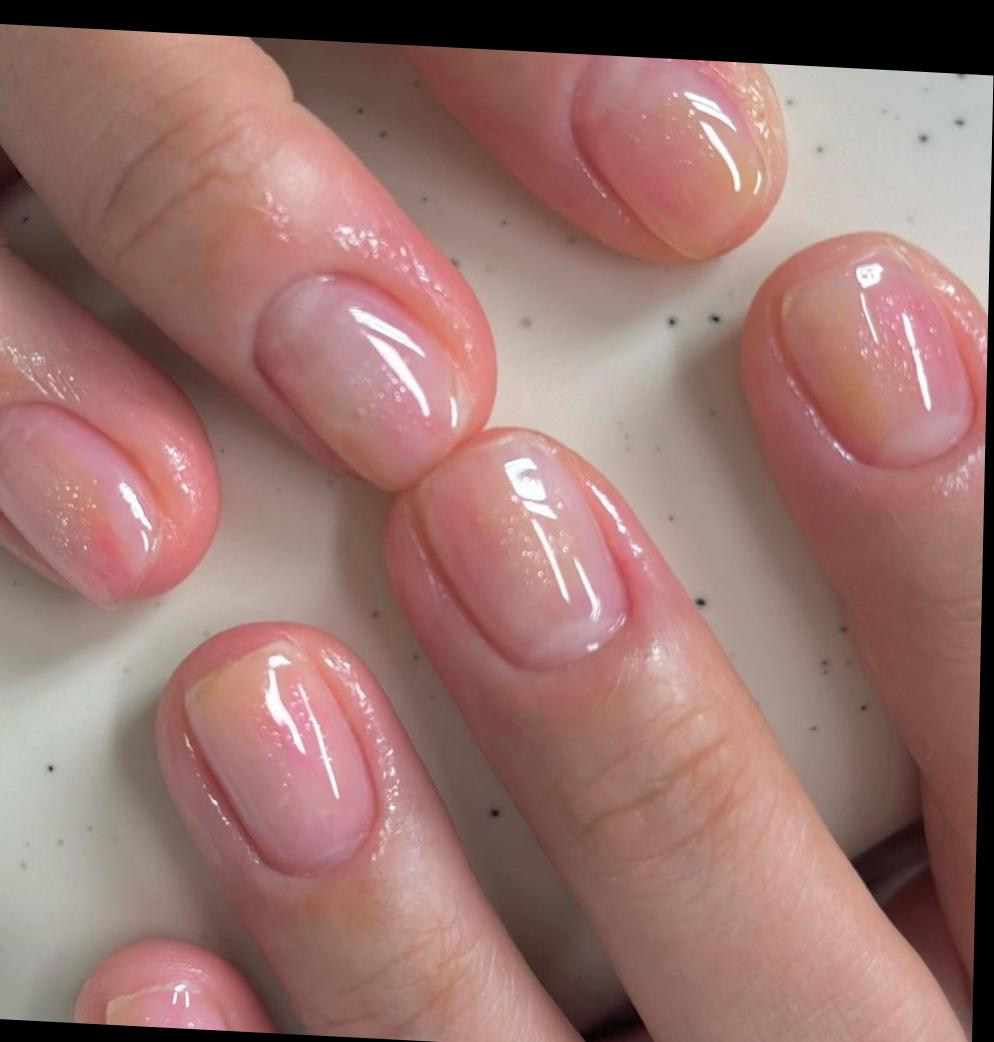nail: (410, 422, 637, 678), (175, 637, 385, 884), (250, 266, 473, 497), (771, 242, 982, 477), (571, 55, 764, 259), (0, 397, 171, 614), (70, 934, 325, 1036), (101, 978, 249, 1032)
